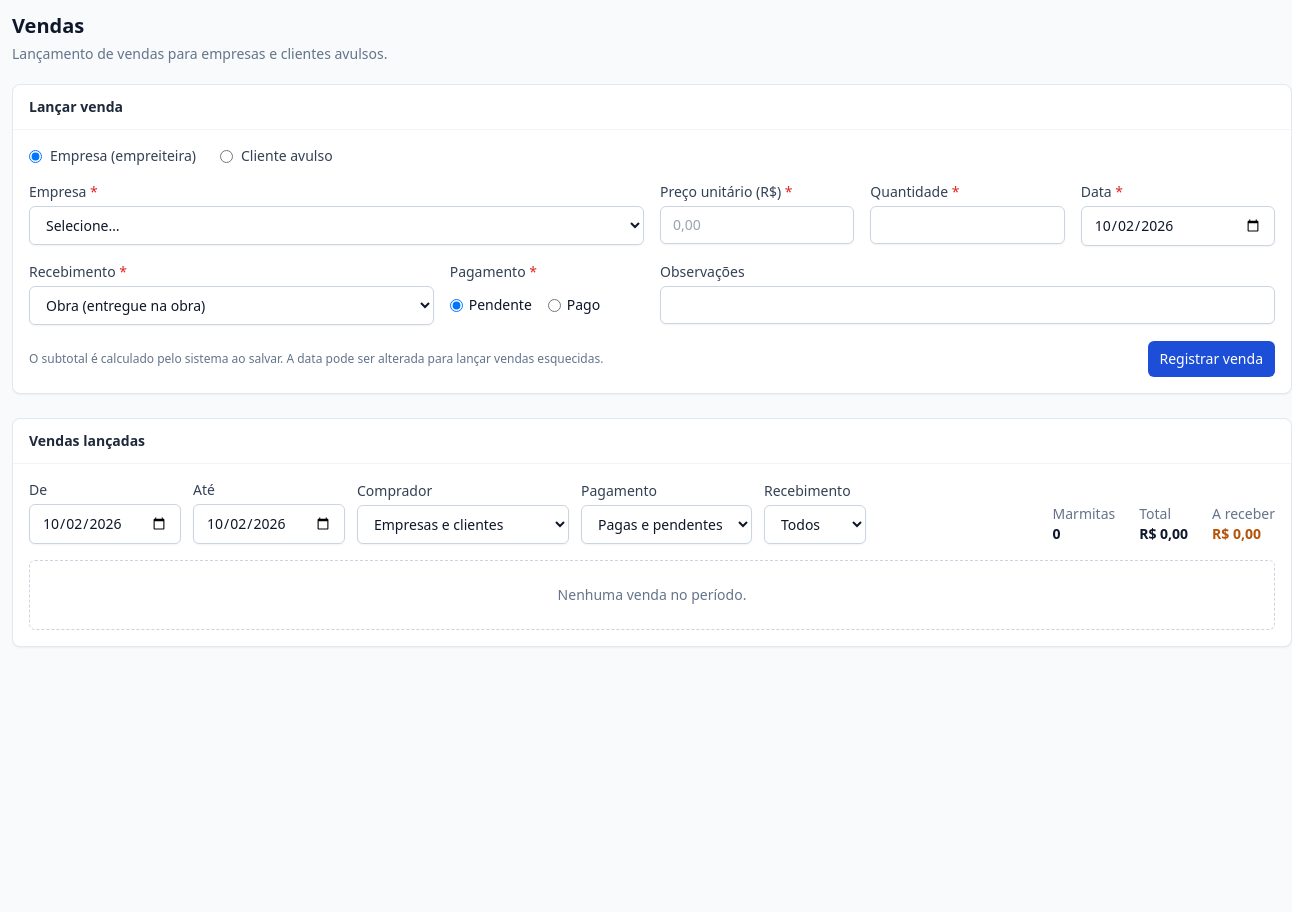
Scenario: Vendas (FE-02, FE-03, FE-04) › exibe erro de campo vindo da API
Select "Construtora Alfa — Obra Centro" in the dropdown labelled "Empresa *" at (336, 226), box x1=29 y1=206 x2=644 y2=245
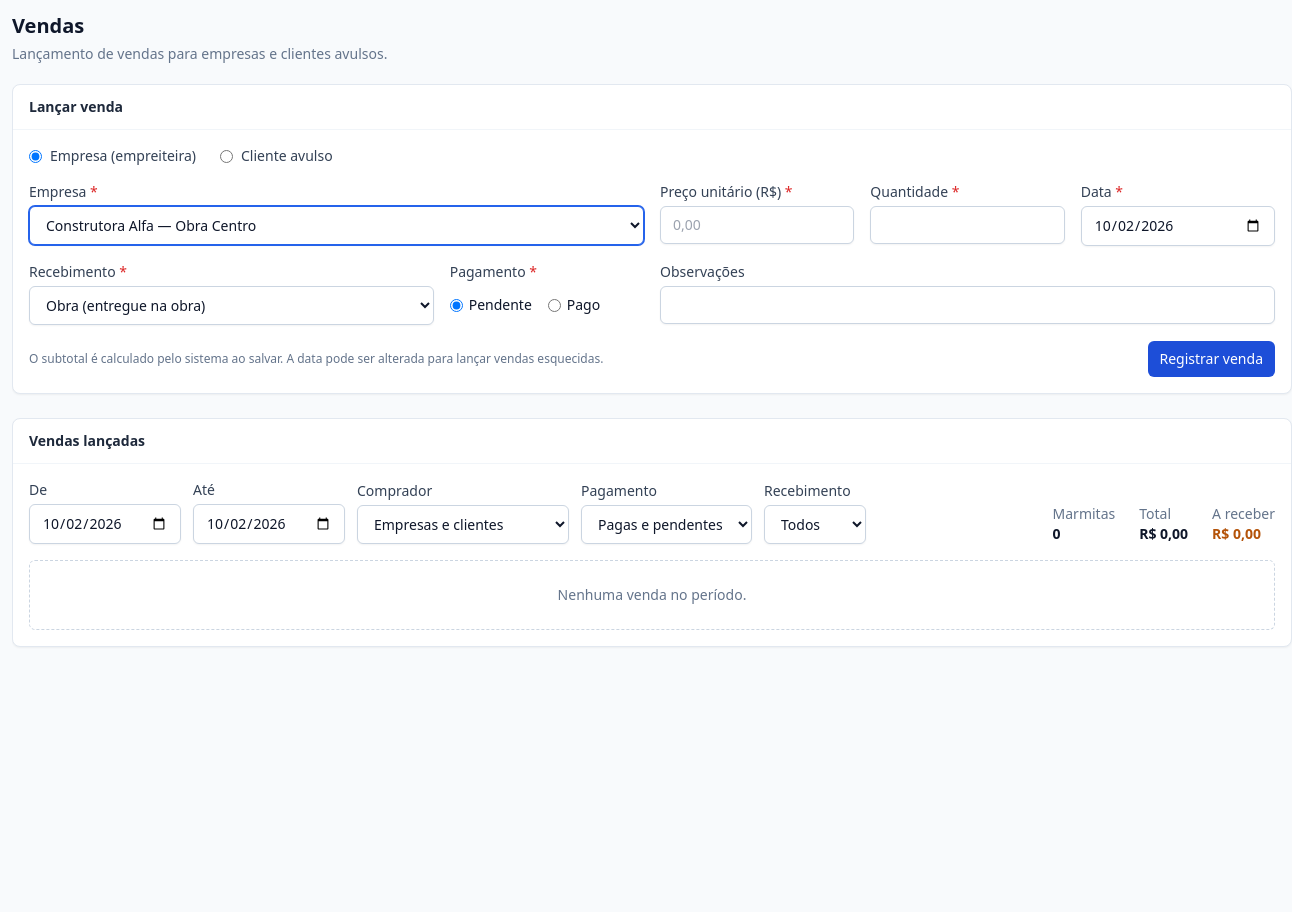
Type "10" into the field labelled "Preço unitário (R$) *" at (757, 225), box x1=660 y1=206 x2=854 y2=244
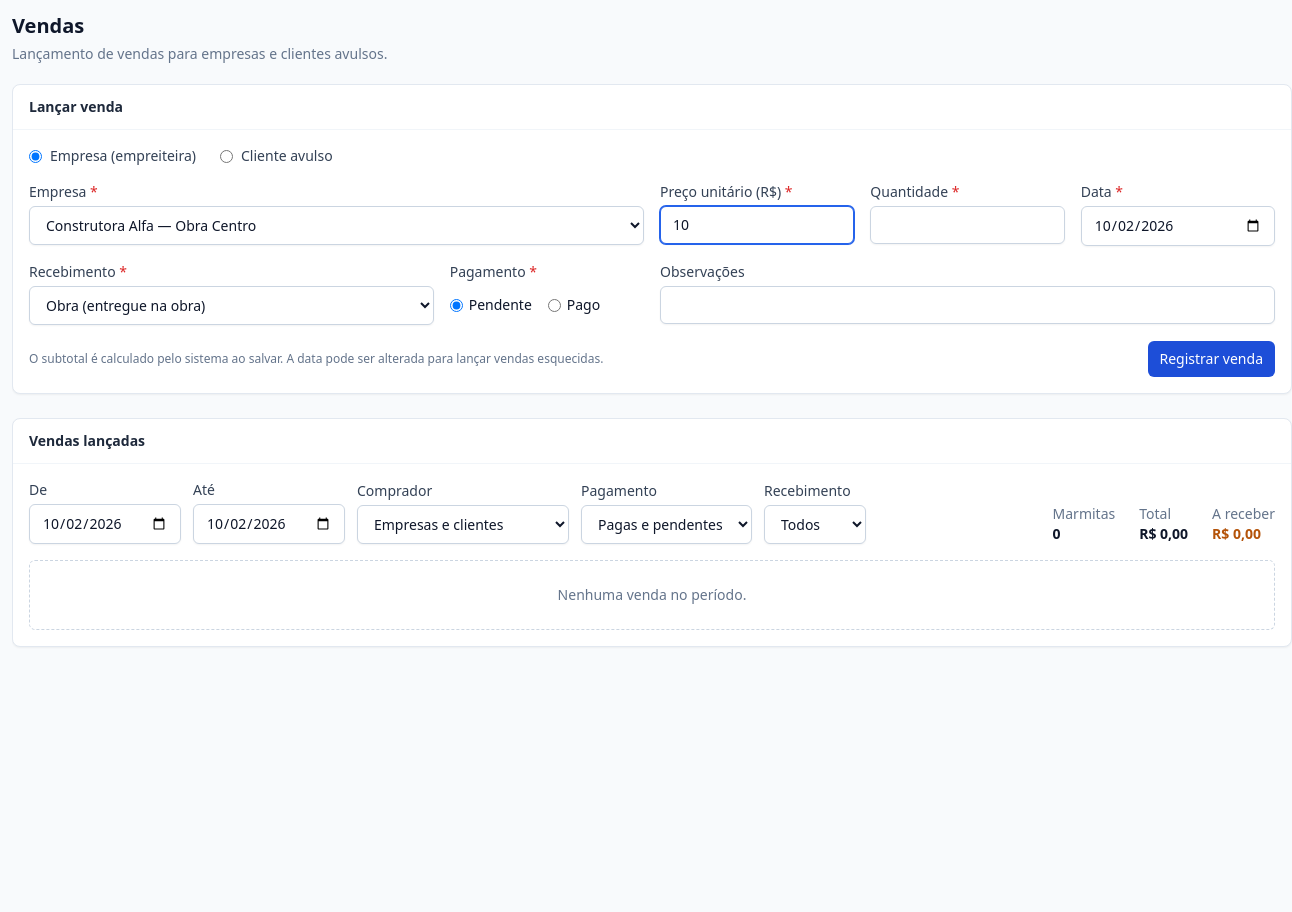
Type "1" into the field labelled "Quantidade *" at (967, 225), box x1=870 y1=206 x2=1065 y2=244
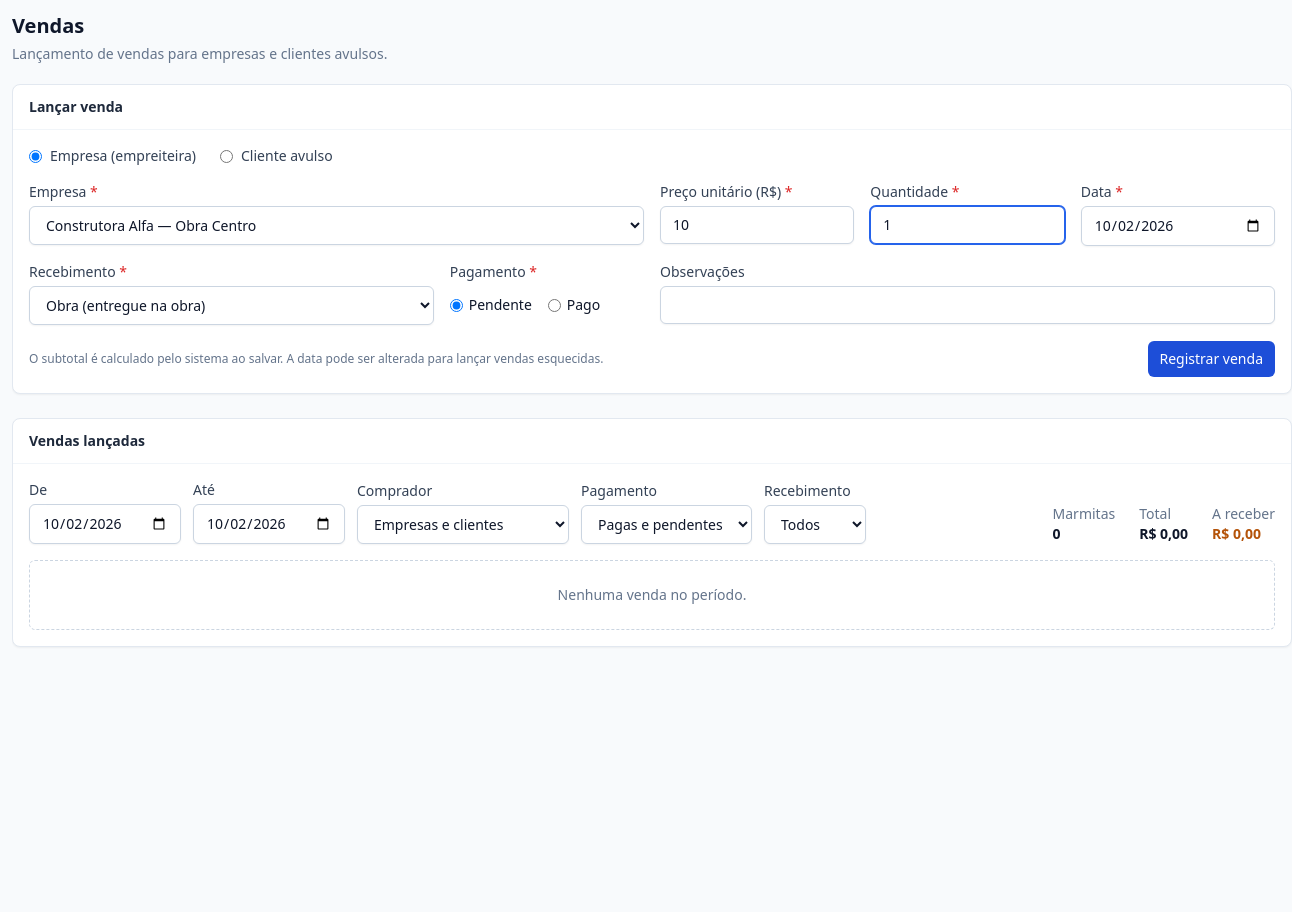
Click the button "Registrar venda" at (1211, 359), box x1=1148 y1=341 x2=1275 y2=377
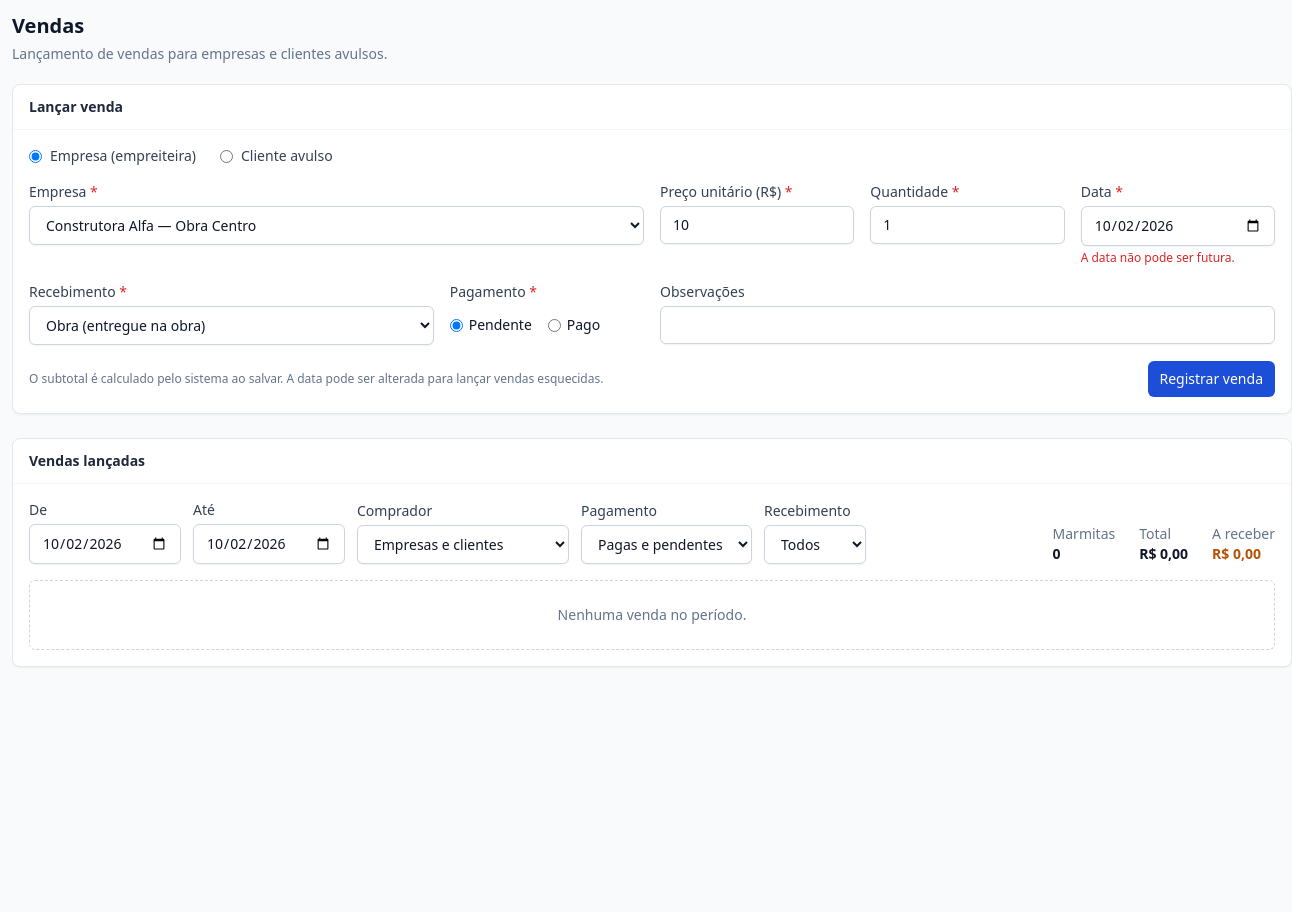
Expected: the text "A data não pode ser futura." is shown, x1=1081 y1=249 x2=1235 y2=266
